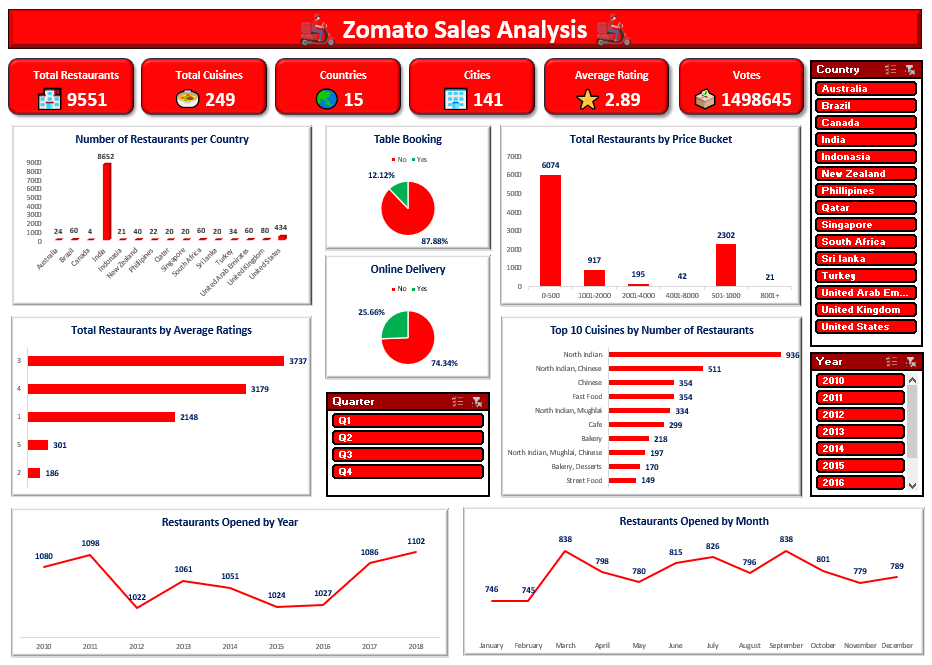

The dashboard page shown, as its layout file describes it:
{"tool":"powerbi","page":{"name":"Dashboard","canvas":[1400,800],"ordinal":0},"visuals":[{"type":"cardVisual","fields":{"Data":["CountNonNull(Main.RestaurantID)","Main.Total Cuisines","Avg(Main.Average_Rating)","Sum(Main.Votes)","CountNonNull(Country.CountryID)","Main.Total Cities"]},"box":[220,12.9,778.6,270],"z":0},{"type":"shape","box":[10,24.3,210,750],"z":0,"group":"g5"},{"type":"textbox","box":[27.1,24.3,198.6,75.7],"z":1000,"group":"g5"},{"type":"group","id":"g1","title":"Group 2","box":[225.7,274.3,554.3,500],"z":1000},{"type":"shape","box":[998.3,13.3,385,261.7],"z":2000,"group":"g3"},{"type":"textbox","box":[30,82.9,171.4,35.7],"z":2000,"group":"g5"},{"type":"group","id":"g2","title":"Group 3","box":[791.7,275,591.7,500],"z":2000},{"type":"group","id":"g3","title":"Group 4","box":[998.3,13.3,385,261.7],"z":3000},{"type":"clusteredBarChart","title":"TOTAL RESTAURANTS BY RATING","fields":{"Y":["CountNonNull(Main.RestaurantID)"],"Category":["Main.Average_Rating"]},"box":[1021.6,30,340,230],"z":3000,"group":"g3"},{"type":"slicer","fields":{"Values":["Country.Countryname"]},"box":[26.7,265,175,70],"z":3000,"group":"g5"},{"type":"group","id":"g4","title":"Group 5","box":[10,24.3,215.7,750],"z":4000},{"type":"shape","box":[225.7,274.3,554.3,500],"z":4000,"group":"g1"},{"type":"shape","box":[791.7,275,591.7,500],"z":4000,"group":"g2"},{"type":"slicer","fields":{"Values":["Main.Average_Rating"]},"box":[26.7,351.7,175,70],"z":4000,"group":"g5"},{"type":"donutChart","title":"TABLE BOOKING","fields":{"Category":["Main.Has_Table_booking"],"Y":["CountNonNull(Main.RestaurantID)"]},"box":[245,295,250,230],"z":5000,"group":"g1"},{"type":"lineChart","fields":{"Category":["CalendarTable.Year"],"Y":["CountNonNull(Main.RestaurantID)"]},"box":[818.4,351.7,543.3,173.3],"z":5000,"group":"g2"},{"type":"slicer","fields":{"Values":["Main.Price Bucket"]},"box":[26.7,438.3,175,70],"z":5000,"group":"g5"},{"type":"textbox","box":[55,226.7,126.7,33.3],"z":6000,"group":"g5"},{"type":"donutChart","title":"ONLINE DELIVERY","fields":{"Category":["Main.Has_Online_delivery"],"Y":["CountNonNull(Main.RestaurantID)"]},"box":[518.3,295,240,230],"z":6000,"group":"g1"},{"type":"slicer","fields":{"Values":["Time Period Parameter.Time Period Parameter"]},"box":[856.7,295,465,40],"z":6000,"group":"g2"},{"type":"image","box":[26.7,226.7,28.3,33.3],"z":7000,"group":"g5"},{"type":"filledMap","title":"Total Restaurants by Country","fields":{"Category":["Country.Countryname"]},"box":[246.7,525,511.7,231.7],"z":7000,"group":"g1"},{"type":"clusteredColumnChart","title":"Total Restaurants by Price Bucket","fields":{"Category":["Main.Price Bucket"],"Y":["CountNonNull(Main.RestaurantID)"]},"box":[818.4,548.3,543.3,208.3],"z":7000,"group":"g2"},{"type":"group","id":"g5","title":"Group 1","box":[10,24.3,215.7,750],"z":8000,"group":"g4"},{"type":"shape","box":[246.7,500,513.3,48.3],"z":8000,"group":"g1"},{"type":"shape","box":[483.3,295,38.3,205],"z":9000,"group":"g1"},{"type":"shape","box":[818.4,508.3,543.3,36.7],"z":9001,"group":"g2"},{"type":"actionButton","box":[64.3,528.6,100,40],"z":9004,"group":"g4"}]}

Visuals, with their boxes on the page's 1400x800 design canvas (x1, y1, x2, y2). These are canvas units, not pixel positions in the 932x665 screenshot, which may show the page scaled, cropped or inside an application window:
cardVisual - CountNonNull(Main.RestaurantID) x Main.Total Cuisines: {"x1": 220, "y1": 13, "x2": 999, "y2": 283}
shape: {"x1": 10, "y1": 24, "x2": 220, "y2": 774}
textbox: {"x1": 27, "y1": 24, "x2": 226, "y2": 100}
"Group 2" group: {"x1": 226, "y1": 274, "x2": 780, "y2": 774}
shape: {"x1": 998, "y1": 13, "x2": 1383, "y2": 275}
textbox: {"x1": 30, "y1": 83, "x2": 201, "y2": 119}
"Group 3" group: {"x1": 792, "y1": 275, "x2": 1383, "y2": 775}
"Group 4" group: {"x1": 998, "y1": 13, "x2": 1383, "y2": 275}
"TOTAL RESTAURANTS BY RATING" clusteredBarChart: {"x1": 1022, "y1": 30, "x2": 1362, "y2": 260}
slicer - Country.Countryname: {"x1": 27, "y1": 265, "x2": 202, "y2": 335}
"Group 5" group: {"x1": 10, "y1": 24, "x2": 226, "y2": 774}
shape: {"x1": 226, "y1": 274, "x2": 780, "y2": 774}
shape: {"x1": 792, "y1": 275, "x2": 1383, "y2": 775}
slicer - Main.Average_Rating: {"x1": 27, "y1": 352, "x2": 202, "y2": 422}
"TABLE BOOKING" donutChart: {"x1": 245, "y1": 295, "x2": 495, "y2": 525}
lineChart - CalendarTable.Year x CountNonNull(Main.RestaurantID): {"x1": 818, "y1": 352, "x2": 1362, "y2": 525}
slicer - Main.Price Bucket: {"x1": 27, "y1": 438, "x2": 202, "y2": 508}
textbox: {"x1": 55, "y1": 227, "x2": 182, "y2": 260}
"ONLINE DELIVERY" donutChart: {"x1": 518, "y1": 295, "x2": 758, "y2": 525}
slicer - Time Period Parameter.Time Period Parameter: {"x1": 857, "y1": 295, "x2": 1322, "y2": 335}
image: {"x1": 27, "y1": 227, "x2": 55, "y2": 260}
"Total Restaurants by Country" filledMap: {"x1": 247, "y1": 525, "x2": 758, "y2": 757}
"Total Restaurants by Price Bucket" clusteredColumnChart: {"x1": 818, "y1": 548, "x2": 1362, "y2": 757}
"Group 1" group: {"x1": 10, "y1": 24, "x2": 226, "y2": 774}
shape: {"x1": 247, "y1": 500, "x2": 760, "y2": 548}
shape: {"x1": 483, "y1": 295, "x2": 522, "y2": 500}
shape: {"x1": 818, "y1": 508, "x2": 1362, "y2": 545}
actionButton: {"x1": 64, "y1": 529, "x2": 164, "y2": 569}
